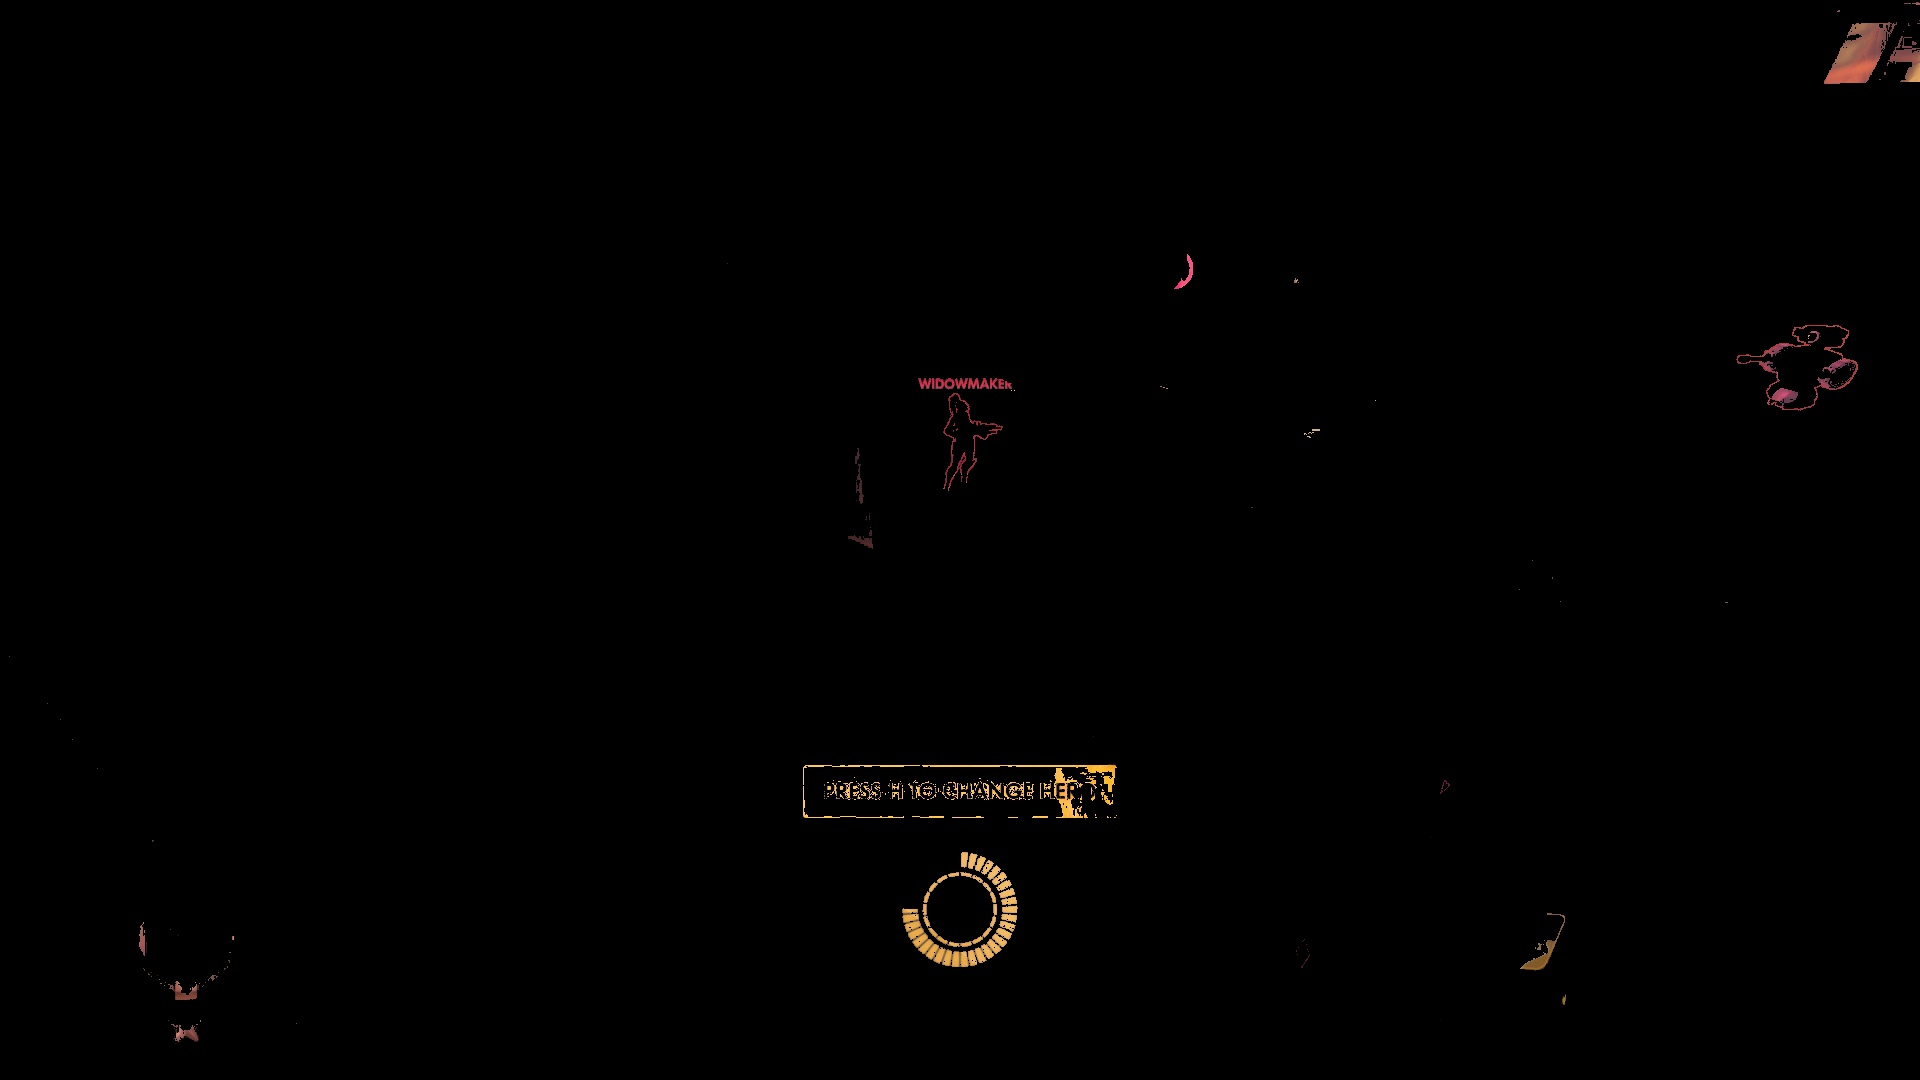widowmaker: (942, 392, 1004, 497)
